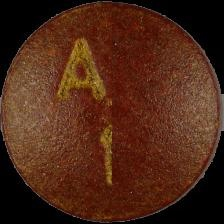65162-517: (0, 0, 224, 224)
